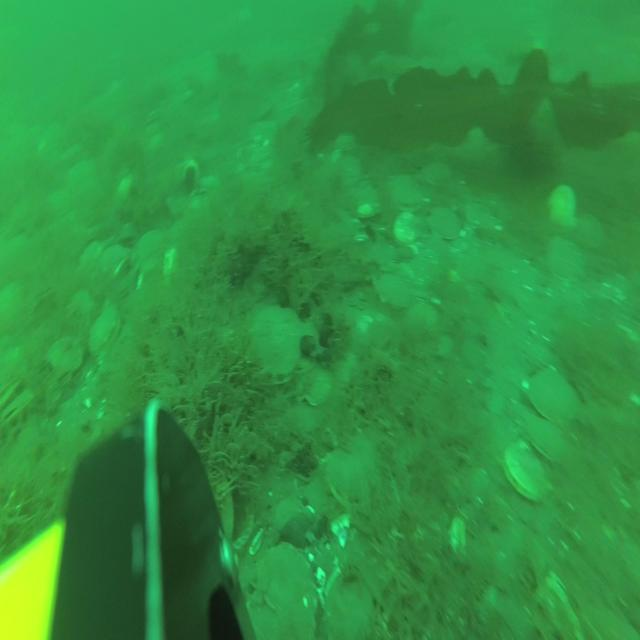scallop: (246, 542, 318, 640), (248, 304, 312, 380), (526, 362, 579, 428), (322, 579, 376, 640), (504, 443, 552, 506), (523, 410, 567, 458), (546, 232, 585, 284), (46, 331, 84, 383), (91, 305, 122, 361), (297, 360, 333, 406), (378, 268, 414, 313), (0, 386, 35, 431), (389, 167, 422, 213), (548, 185, 576, 230), (66, 292, 96, 332), (431, 203, 459, 244), (573, 213, 602, 251), (393, 210, 423, 246), (424, 156, 449, 190), (1, 371, 20, 405), (355, 200, 380, 223)
